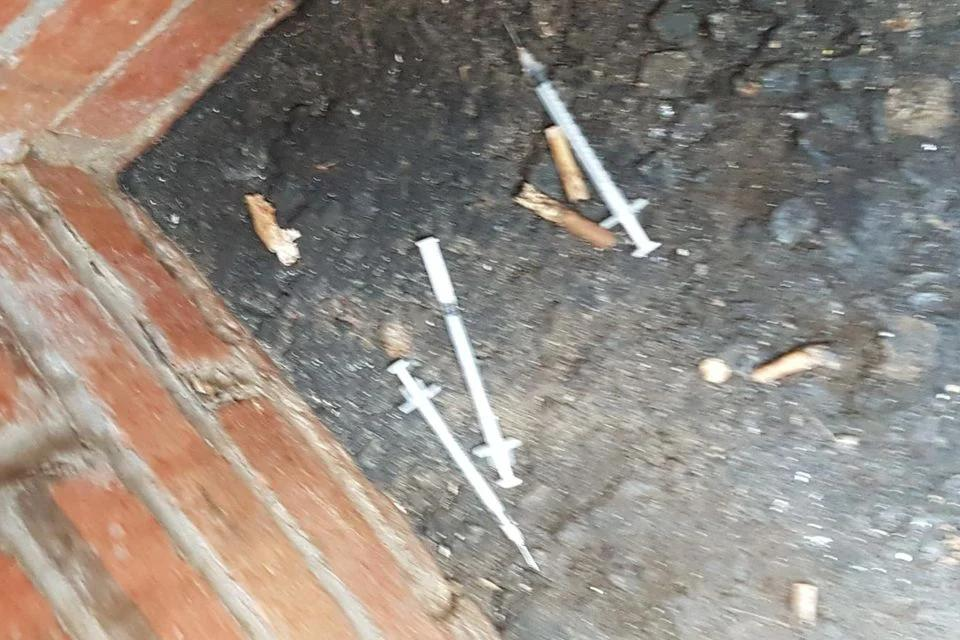Syringe: (504, 22, 660, 255)
